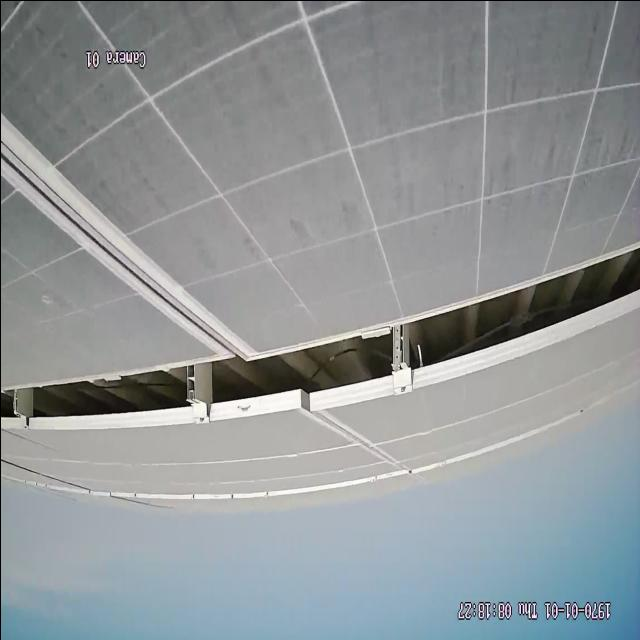interior panel: (4, 115, 241, 345)
outher panel: (1, 239, 639, 431)
